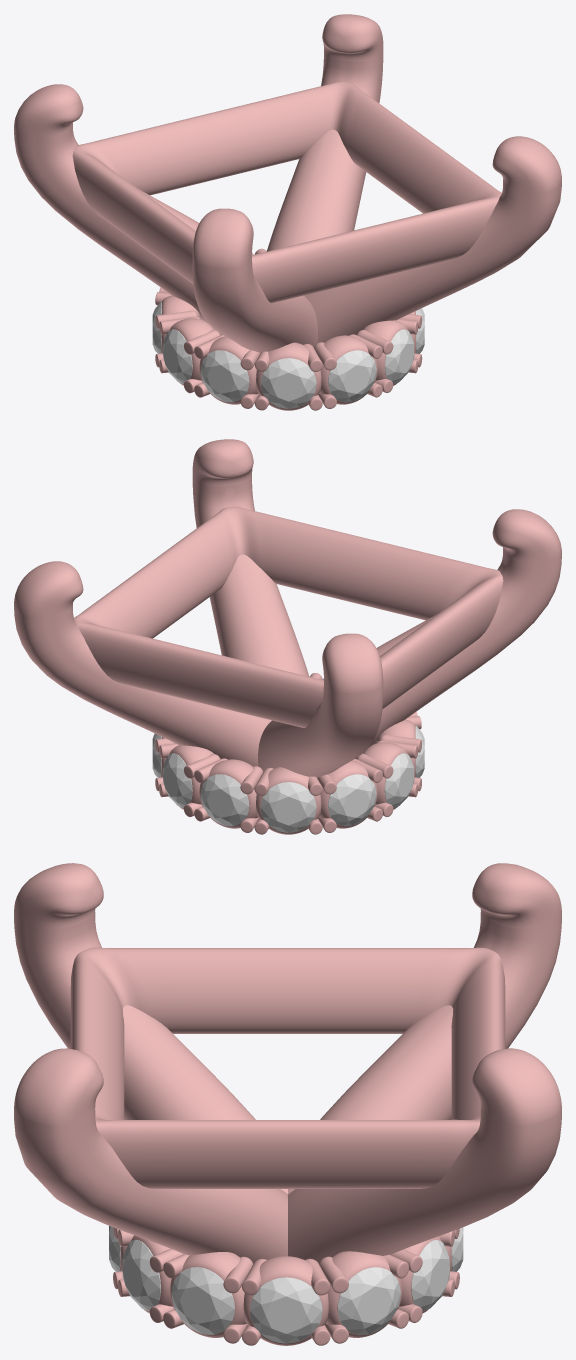
The model's file is PRINCESS.glb.
The picture shows the model from 3 angles, top to bottom: view 1: azimuth 30°, elevation 25°; view 2: azimuth 150°, elevation 25°; view 3: azimuth 270°, elevation 25°; orthographic projection. The views are drawn at different scales.
Visible parts, largest first — view 1: Princess.002, hidden halo.008, hidden halo - diamonds.008; view 2: Princess.002, hidden halo.008, hidden halo - diamonds.008; view 3: Princess.002, hidden halo - diamonds.008, hidden halo.008.
Part boxes in pixels (<box>): Princess.002: <box>14,14,561,352</box>; hidden halo.008: <box>155,248,422,410</box>; hidden halo - diamonds.008: <box>152,301,424,408</box>; Princess.002: <box>14,439,561,777</box>; hidden halo.008: <box>155,673,421,834</box>; hidden halo - diamonds.008: <box>152,725,424,832</box>; Princess.002: <box>14,863,561,1263</box>; hidden halo - diamonds.008: <box>109,1226,463,1343</box>; hidden halo.008: <box>113,1227,459,1345</box>.
Size of the model in its own units: 6.23 by 4.45 by 6.23.
